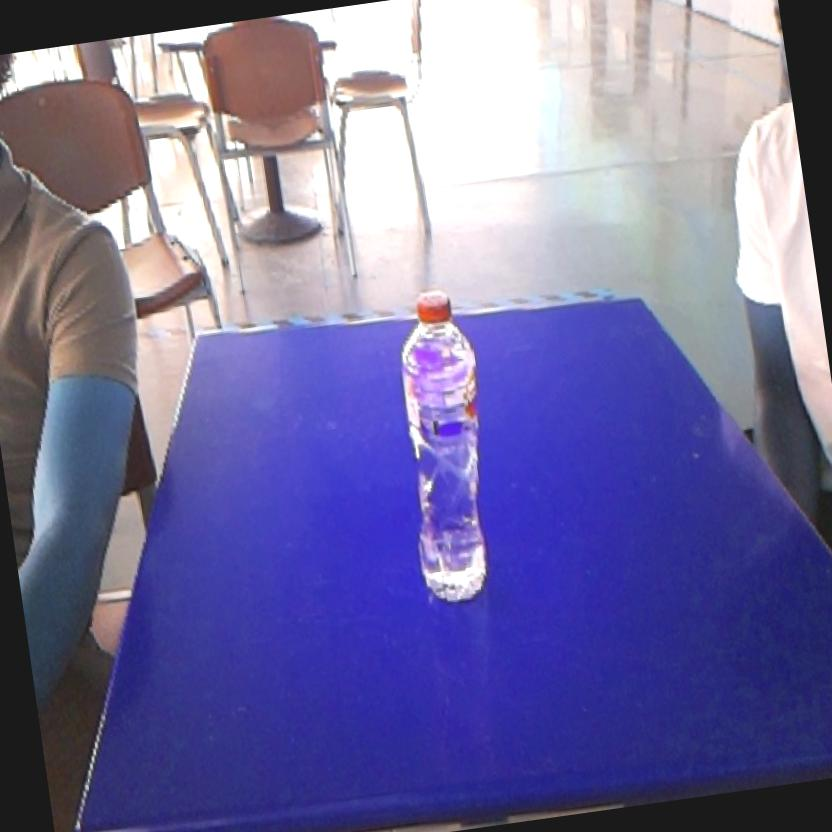good: (376, 279, 516, 617)
